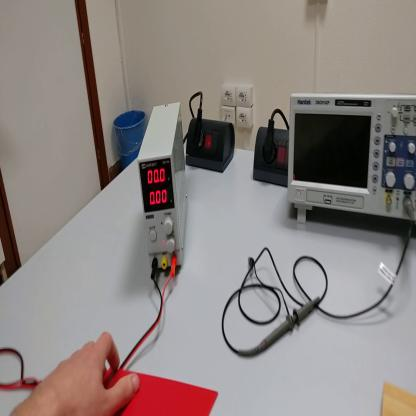hand: (29, 332, 141, 416)
oscilloscope: (288, 93, 416, 230)
oscilloscope probe tip: (237, 298, 324, 362)
power supply: (138, 100, 188, 283)
register: (102, 373, 221, 416)
socket: (185, 119, 236, 174), (252, 123, 291, 191)
working area: (383, 384, 416, 416)
